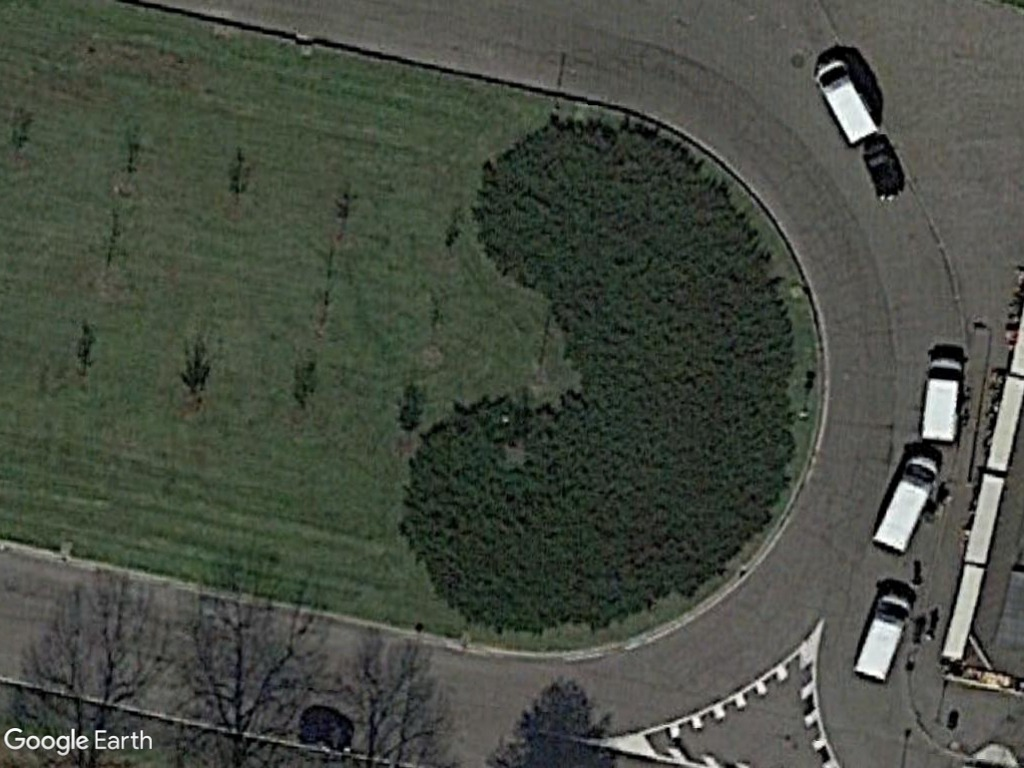van: (870, 448, 943, 560), (804, 50, 884, 147), (852, 585, 915, 688), (921, 351, 967, 448)
